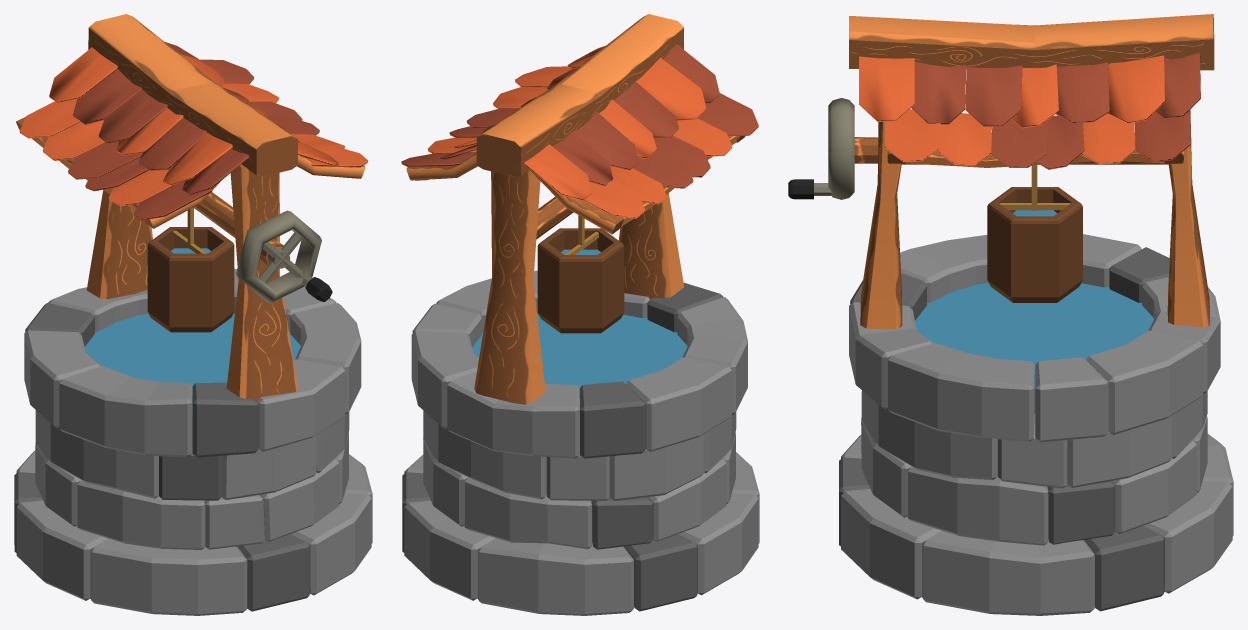
File: Well.fbx
3 views of the same model, side by side, from view 1: azimuth 30°, elevation 25°; view 2: azimuth 150°, elevation 25°; view 3: azimuth 270°, elevation 25° (orthographic). The views are drawn at different scales.
Parts seen in each view (by area): view 1: Cube.003, Cube.005, Cube.004, Cube, Water, Cube.001, Cube.007; view 2: Cube.003, Cube.005, Cube.004, Cube, Water, Cube.007; view 3: Cube.003, Cube.007, Cube.005, Water, Cube, Cube.001.
Boxes of the visible parts, <box> form: Cube.003: <box>14,268,372,615</box>; Cube.005: <box>16,14,365,401</box>; Cube.004: <box>19,47,248,220</box>; Cube: <box>147,207,234,332</box>; Water: <box>84,313,300,414</box>; Cube.001: <box>236,210,332,302</box>; Cube.007: <box>165,42,368,167</box>; Cube.003: <box>402,270,759,615</box>; Cube.005: <box>406,14,745,404</box>; Cube.004: <box>524,44,758,218</box>; Cube: <box>537,215,624,333</box>; Water: <box>472,314,687,387</box>; Cube.007: <box>401,46,604,167</box>; Cube.003: <box>839,234,1233,615</box>; Cube.007: <box>859,53,1200,169</box>; Cube.005: <box>849,14,1214,329</box>; Water: <box>915,283,1153,389</box>; Cube: <box>987,165,1082,302</box>; Cube.001: <box>788,98,878,199</box>.
Bounding box in the file's own units: 1166 × 1654 × 1305.
Materials: 10 (1 with a texture image).
